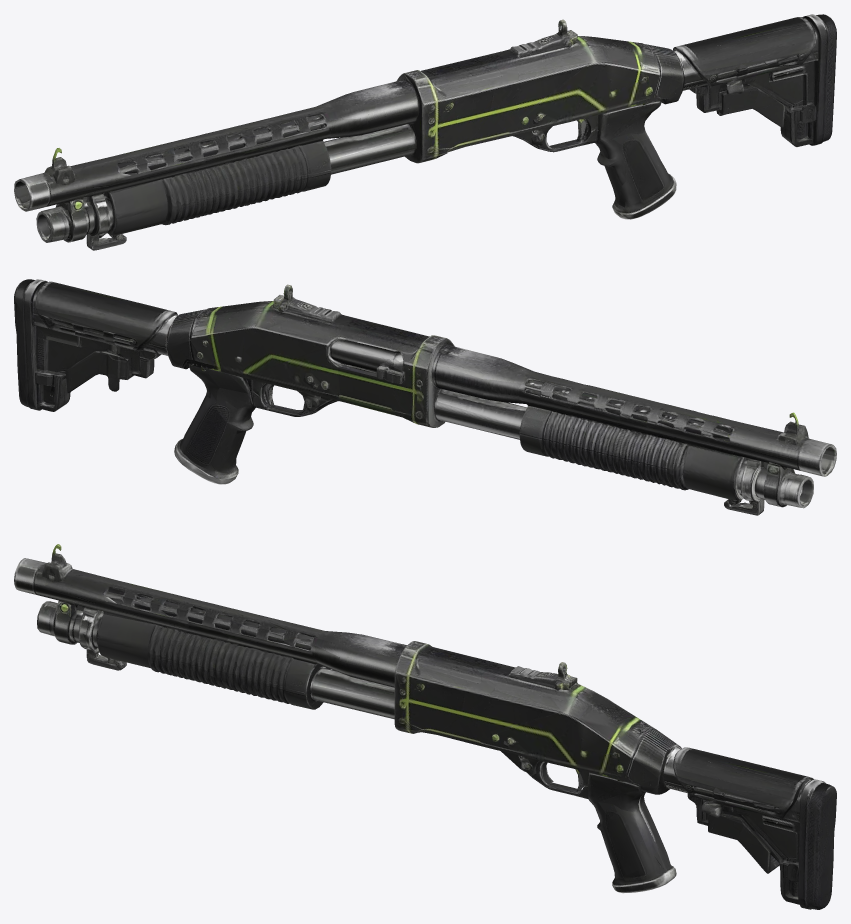
The model's file is gun_shotgun.glb.
The picture shows the model from 3 angles, top to bottom: view 1: azimuth 30°, elevation 25°; view 2: azimuth 150°, elevation 25°; view 3: azimuth 330°, elevation 25°; orthographic projection.
Visible parts, largest first — view 1: Mesh_0; view 2: Mesh_0; view 3: Mesh_0.
Boxes of the visible parts, bbox=[...] form: Mesh_0: bbox=[14, 14, 836, 250]; Mesh_0: bbox=[14, 279, 836, 515]; Mesh_0: bbox=[14, 544, 836, 909].
Bounding box in the file's own units: 1.9 × 0.4734 × 0.1383.
1 material, 1 textured.
